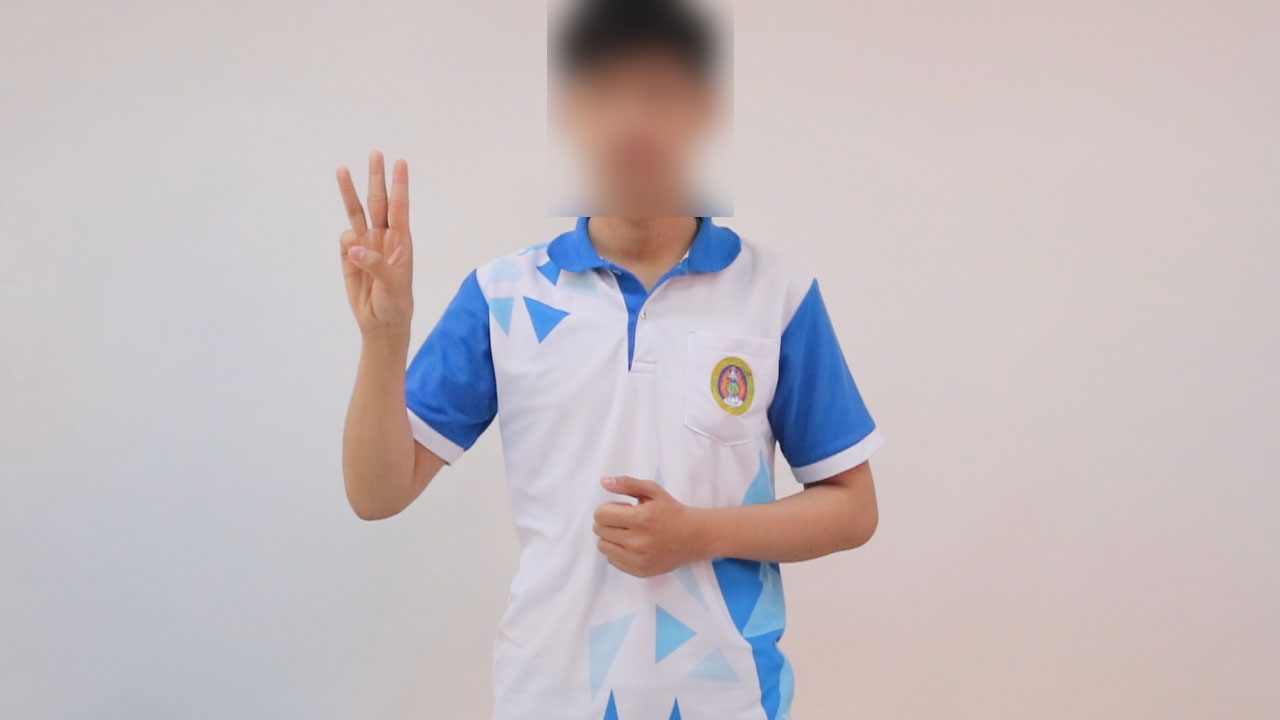wor: (326, 144, 423, 349)
